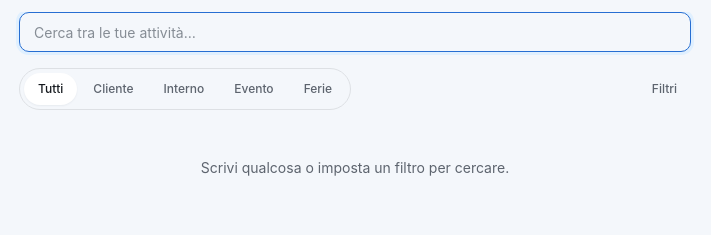
Test: SearchView › Pulisci filtri ripristina lo stato iniziale
Type "alfa" into the search field labelled "Cerca" at (355, 32), box [19,12,691,52]
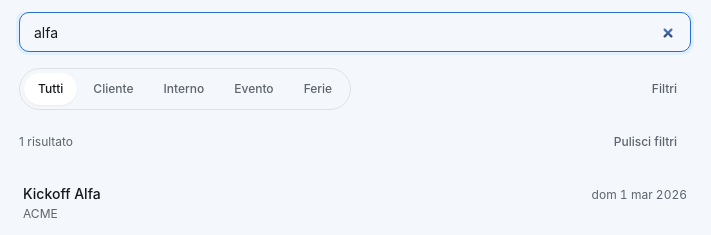
Expected: the text "Kickoff Alfa" is shown, [23,184,101,204]
Click the button "Pulisci filtri" at (645, 142), box [600,126,691,158]
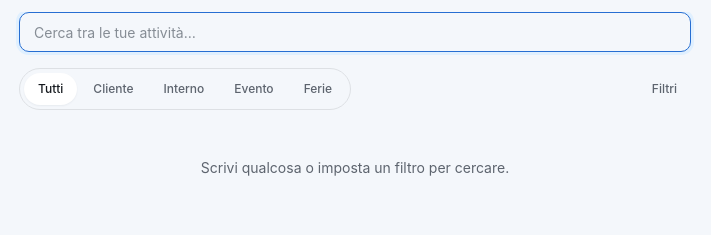
Expected: the text "Scrivi qualcosa o imposta un filtro per cercare." is shown, [201,159,509,176]
